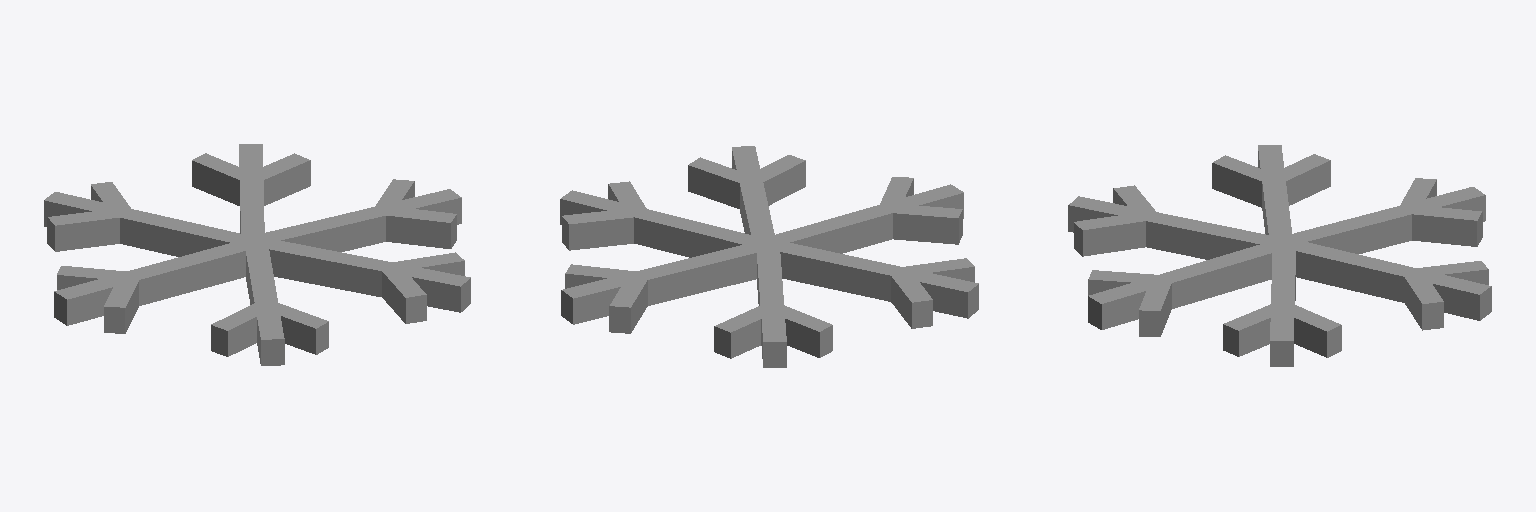
File: Ice.obj
3 renders of one model, left to right at view 1: azimuth 30°, elevation 25°; view 2: azimuth 150°, elevation 25°; view 3: azimuth 270°, elevation 25°, orthographic.
Parts seen in each view (by area): view 1: Cube; view 2: Cube; view 3: Cube.
Boxes of the visible parts, box(x1,y1,x2,y2) form: Cube: box(44, 144, 470, 365); Cube: box(560, 146, 978, 367); Cube: box(1068, 145, 1491, 366).
Size of the model in its own units: 3.55 by 0.222 by 3.24.